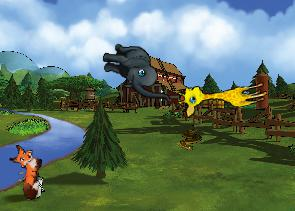elephant: (100, 43, 172, 102)
fox: (3, 143, 46, 200)
giraffe: (175, 70, 269, 119)
